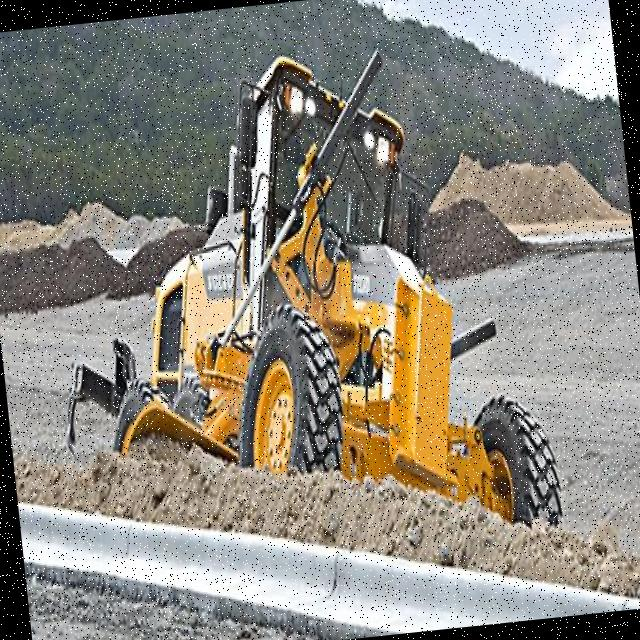Grader: (27, 22, 570, 606)
